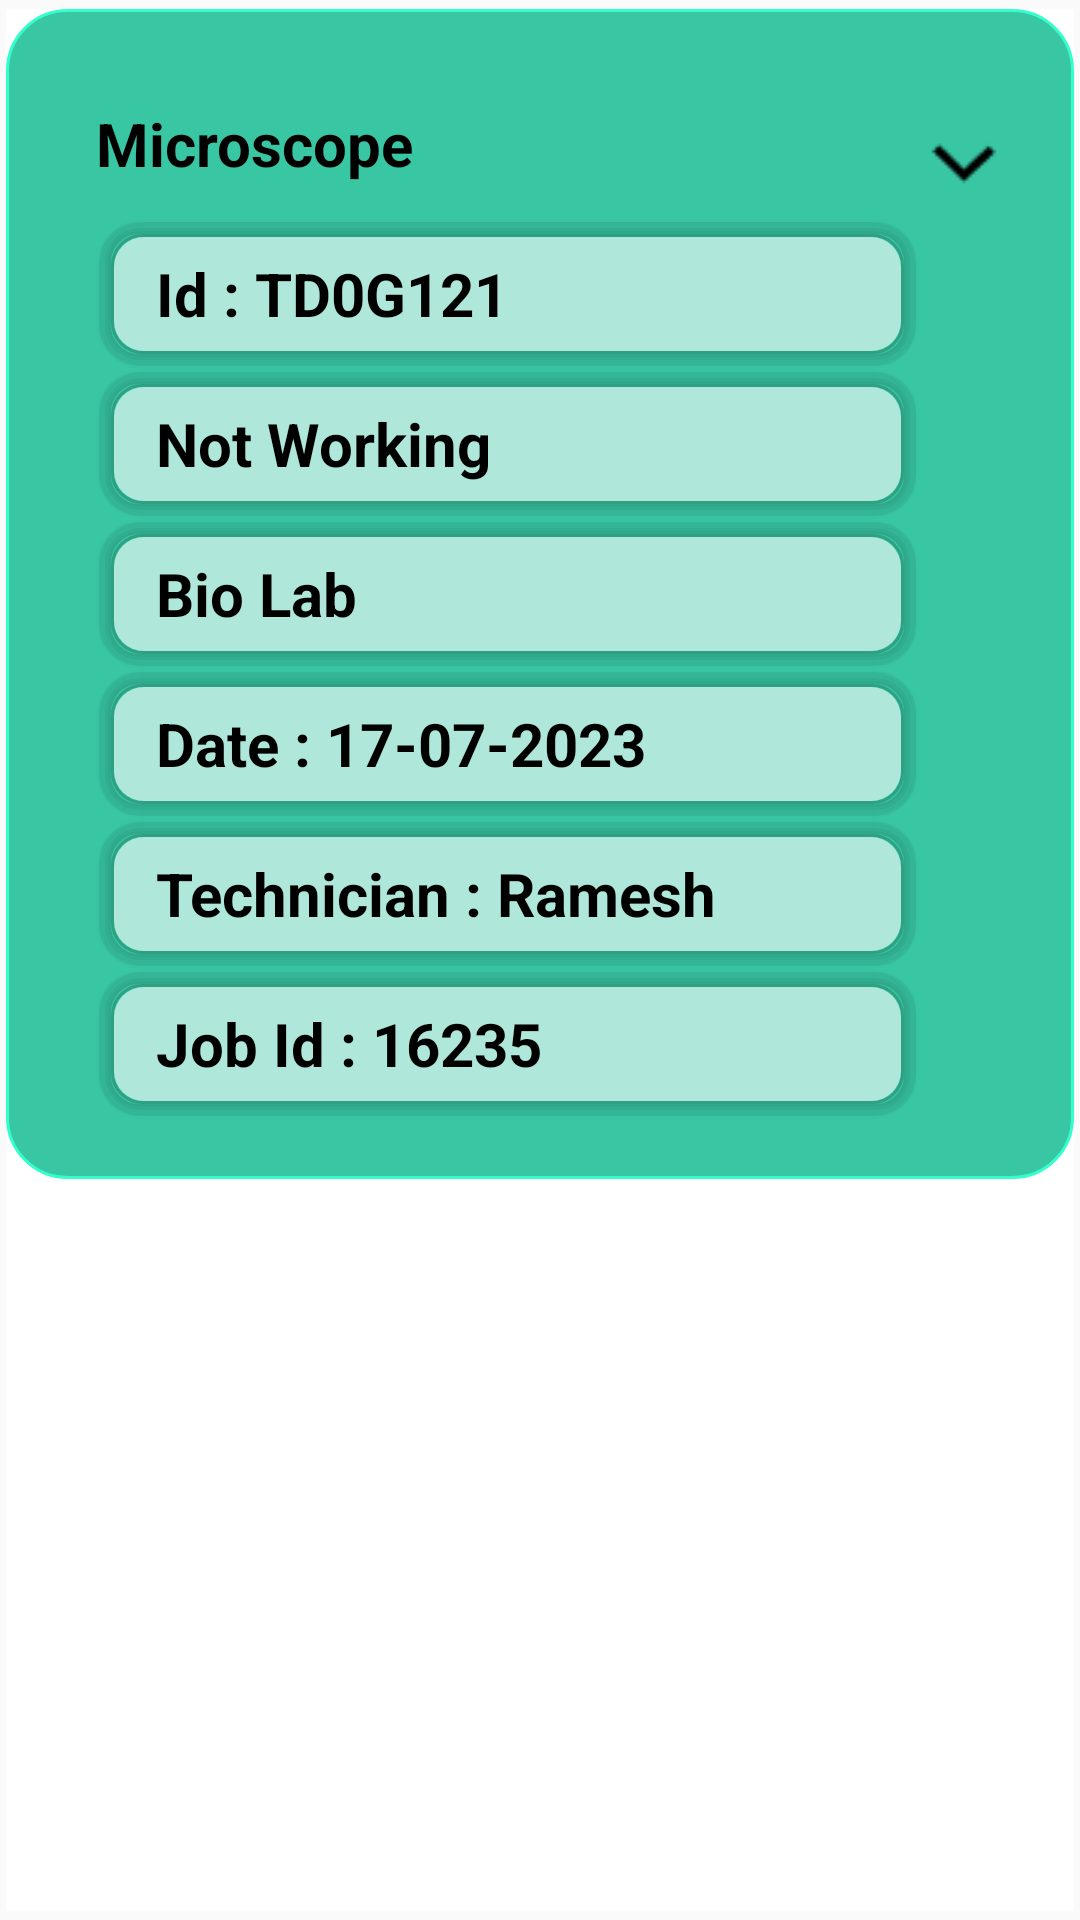

Screen size 1080 x 1920. Icon name, then its center in pixels as (x,y):
dropdwon: (964,163)
